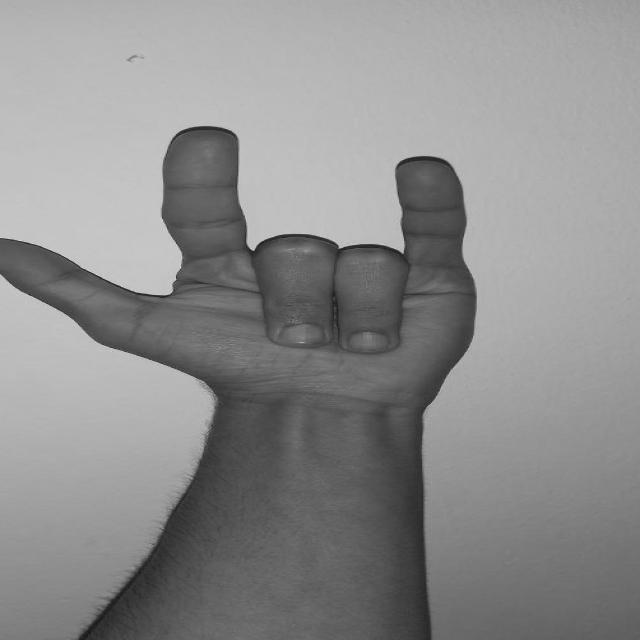i love you: (0, 116, 502, 417)
